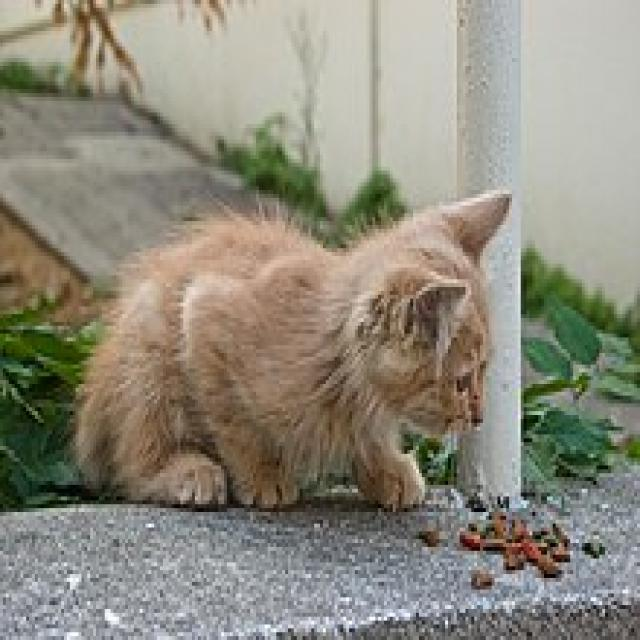cat: (76, 192, 508, 509)
